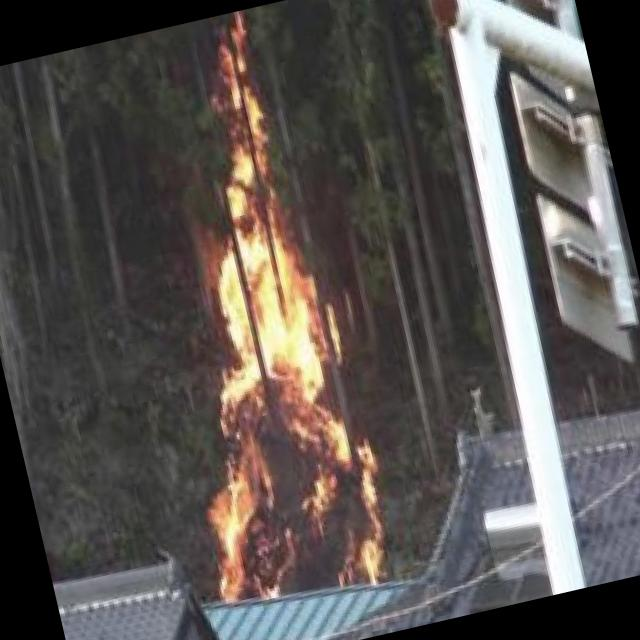Fire: (102, 11, 400, 613)
